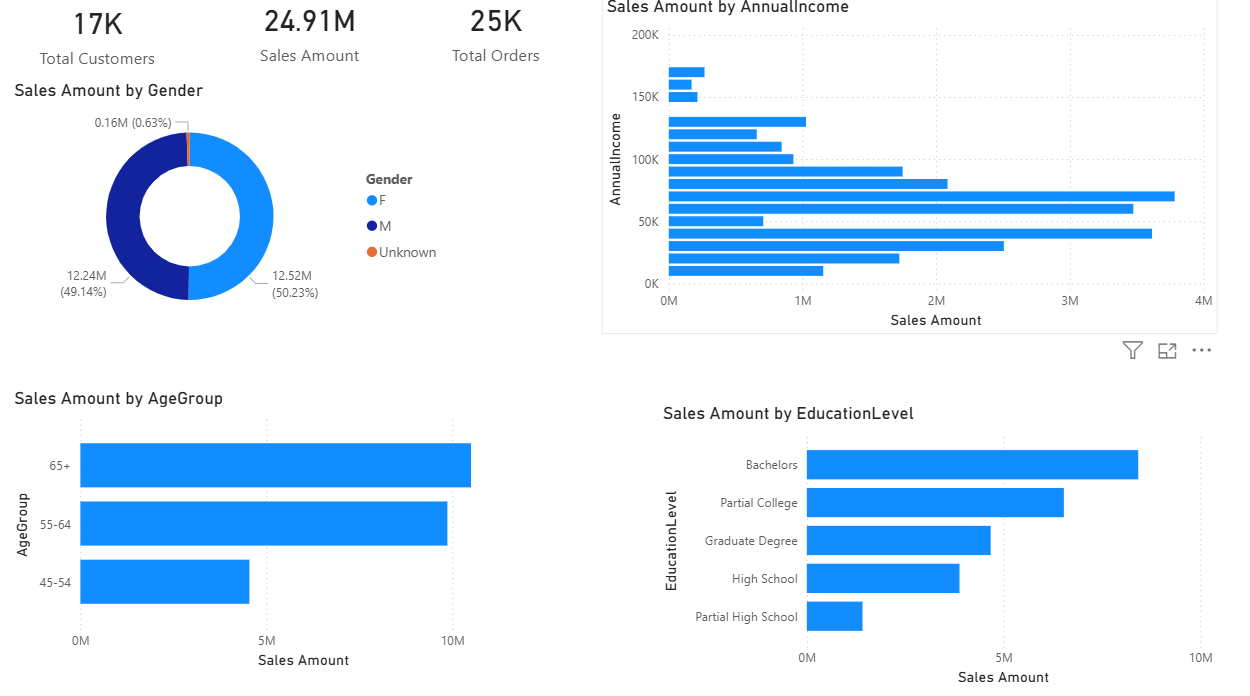

The page's visual inventory and layout, read from the dashboard file:
{"tool":"powerbi","page":{"name":"Customer Dashboard1","canvas":[1280,720],"ordinal":2},"visuals":[{"type":"card","fields":{"Values":["FactSales.Total Customers"]},"box":[9.8,0,214,91.7],"z":0},{"type":"card","fields":{"Values":["FactSales.Sales Amount"]},"box":[198.1,0,253.1,85.6],"z":1000},{"type":"card","fields":{"Values":["FactSales.Total Orders"]},"box":[403.5,0,206.7,85.6],"z":2000},{"type":"donutChart","fields":{"Category":["DimCustomer.Gender"],"Y":["FactSales.Sales Amount"]},"box":[30.6,91.7,431.7,248.2],"z":3000},{"type":"barChart","fields":{"Category":["DimCustomer.AnnualIncome"],"Y":["FactSales.Sales Amount"]},"box":[610.2,9.8,602.9,330.2],"z":4000},{"type":"barChart","fields":{"Y":["FactSales.Sales Amount"],"Category":["DimCustomer.EducationLevel"]},"box":[665.2,407.2,547.8,282.5],"z":5000},{"type":"clusteredBarChart","fields":{"Category":["DimCustomer.AgeGroup"],"Y":["FactSales.Sales Amount"]},"box":[30.6,392.5,523.4,280],"z":6000}]}

Visuals, with their boxes in screenshot pixels (x1, y1, x2, y2), scaled from the page's 1280x720 canvas onto the 1250x696 screenshot:
card - FactSales.Total Customers: detection(10, 0, 219, 89)
card - FactSales.Sales Amount: detection(193, 0, 441, 83)
card - FactSales.Total Orders: detection(394, 0, 596, 83)
donutChart - DimCustomer.Gender x FactSales.Sales Amount: detection(30, 89, 451, 329)
barChart - DimCustomer.AnnualIncome x FactSales.Sales Amount: detection(596, 9, 1185, 329)
barChart - FactSales.Sales Amount x DimCustomer.EducationLevel: detection(650, 394, 1185, 667)
clusteredBarChart - DimCustomer.AgeGroup x FactSales.Sales Amount: detection(30, 379, 541, 650)
